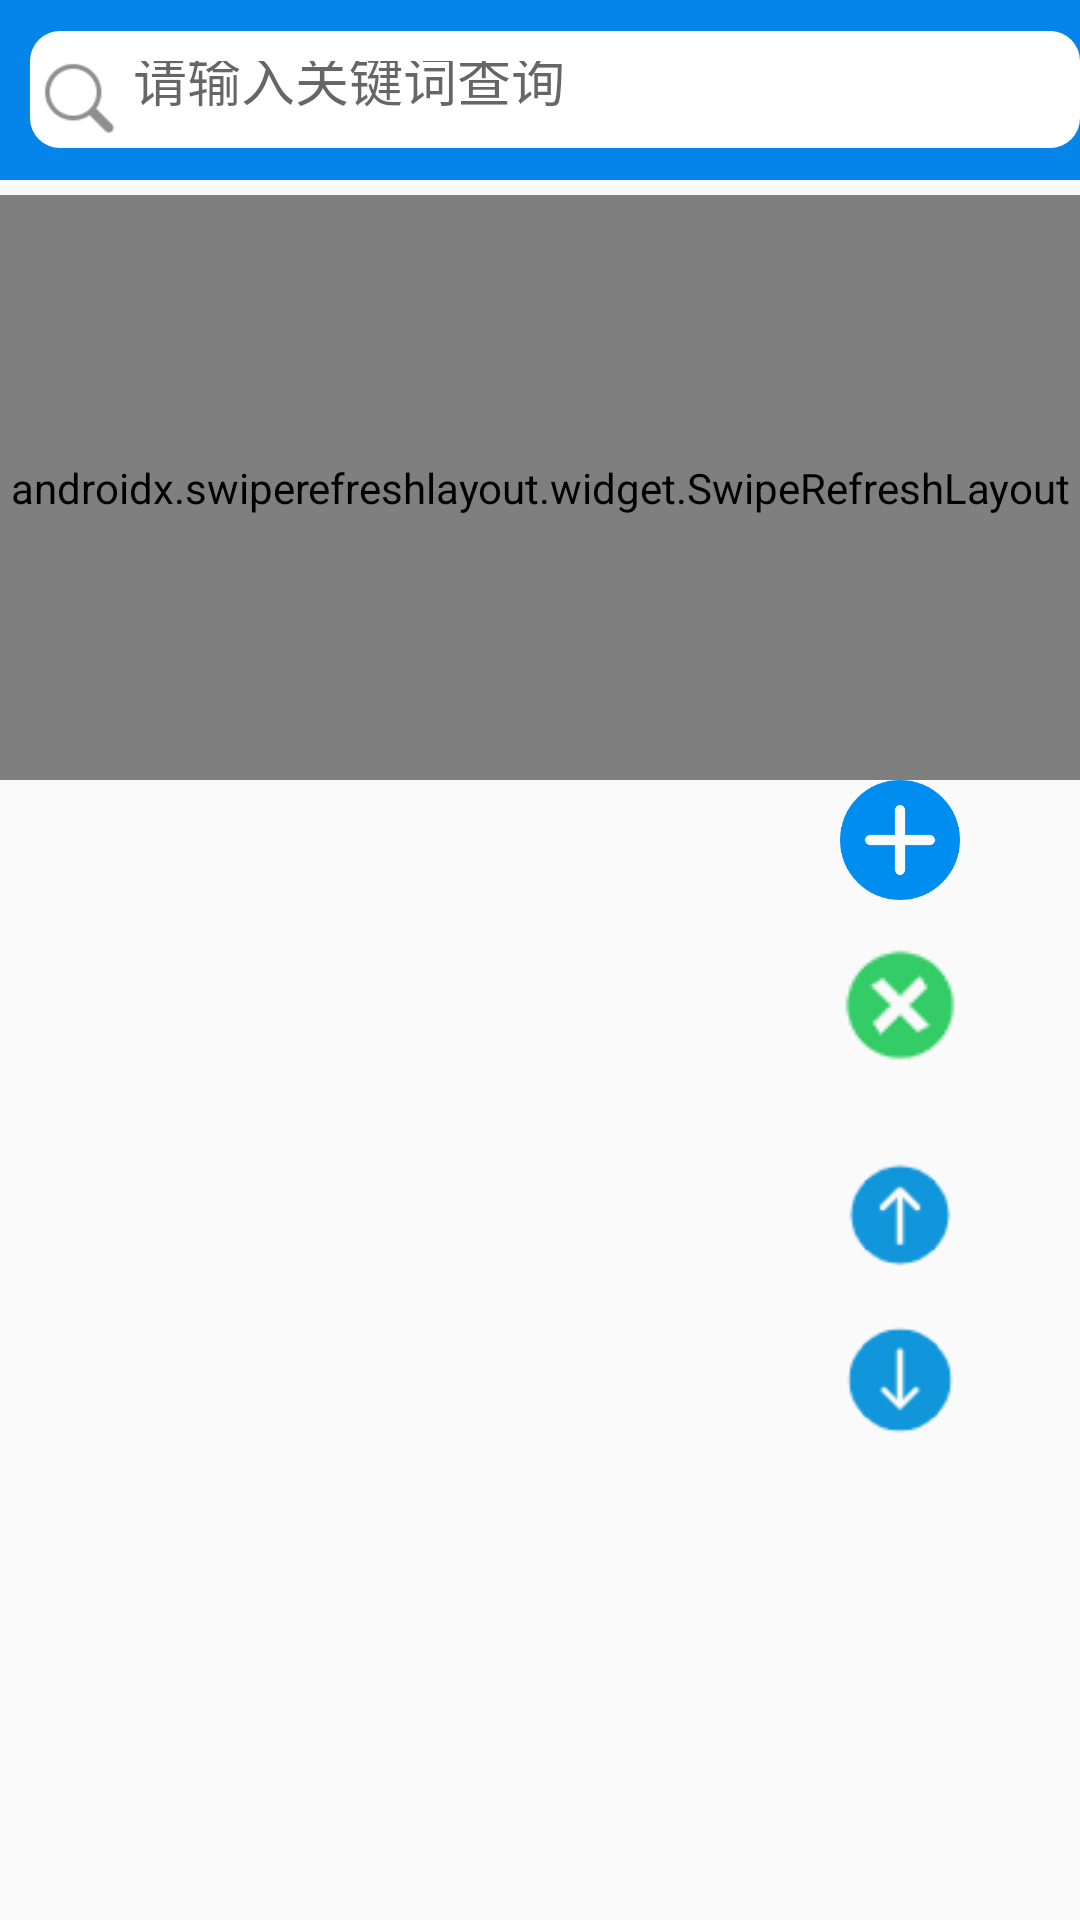

Screen size 1080w x 1920h. Icon name, then its center in pixels as (x,y):
add: (900,840)
delete: (900,1005)
search: (79,98)
